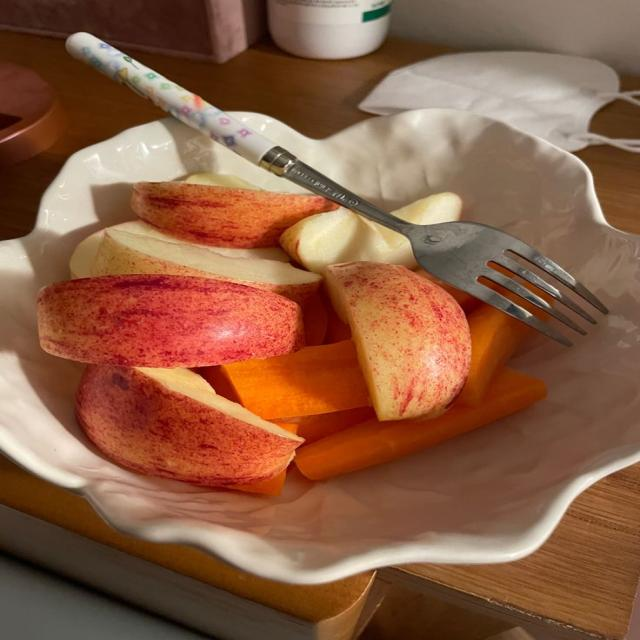apple: (77, 365, 303, 486), (38, 275, 303, 367), (326, 262, 471, 420), (92, 228, 321, 303), (132, 183, 337, 247), (280, 208, 417, 272), (185, 243, 289, 262), (185, 173, 259, 190)
